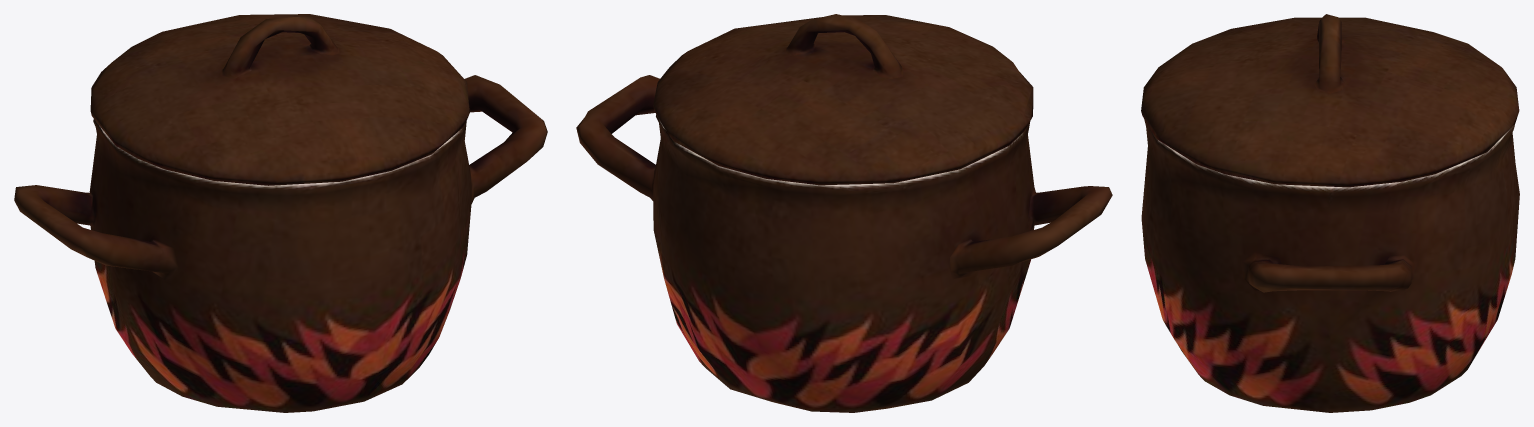
File: pot_enamel_01.lod1.glb
3 renders of one model, left to right at view 1: azimuth 30°, elevation 25°; view 2: azimuth 150°, elevation 25°; view 3: azimuth 270°, elevation 25°, orthographic.
Parts seen in each view (by area): view 1: pot_enamel_01_base, pot_enamel_01_lid; view 2: pot_enamel_01_base, pot_enamel_01_lid; view 3: pot_enamel_01_base, pot_enamel_01_lid.
Boxes of the visible parts, box(x1,y1,x2,y2) form: pot_enamel_01_base: box(14, 75, 547, 412); pot_enamel_01_lid: box(90, 14, 470, 185); pot_enamel_01_base: box(576, 75, 1112, 412); pot_enamel_01_lid: box(653, 14, 1033, 185); pot_enamel_01_base: box(1141, 119, 1519, 412); pot_enamel_01_lid: box(1141, 14, 1519, 187).
Bounding box in the file's own units: 0.2622 × 0.1778 × 0.1799.
1 material, 1 textured.
